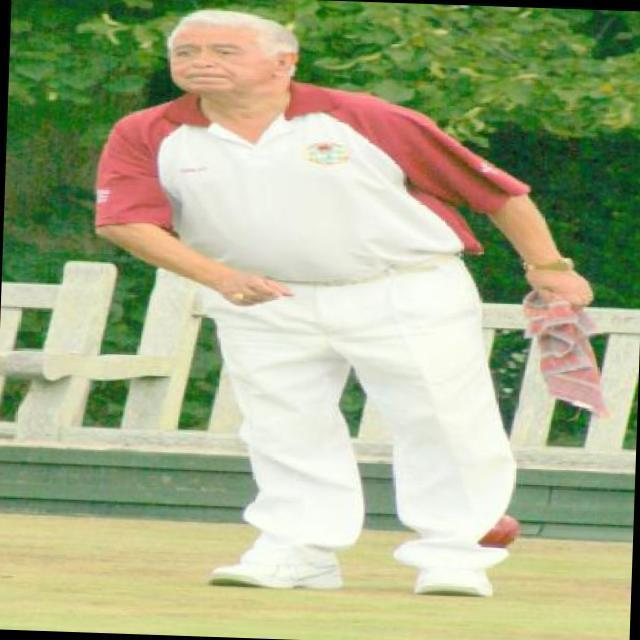-: (466, 502, 549, 557)
